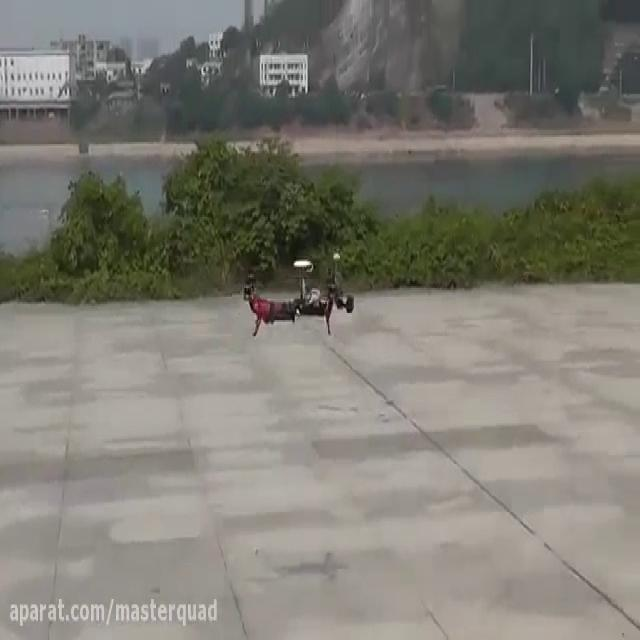drone: (240, 247, 355, 341)
